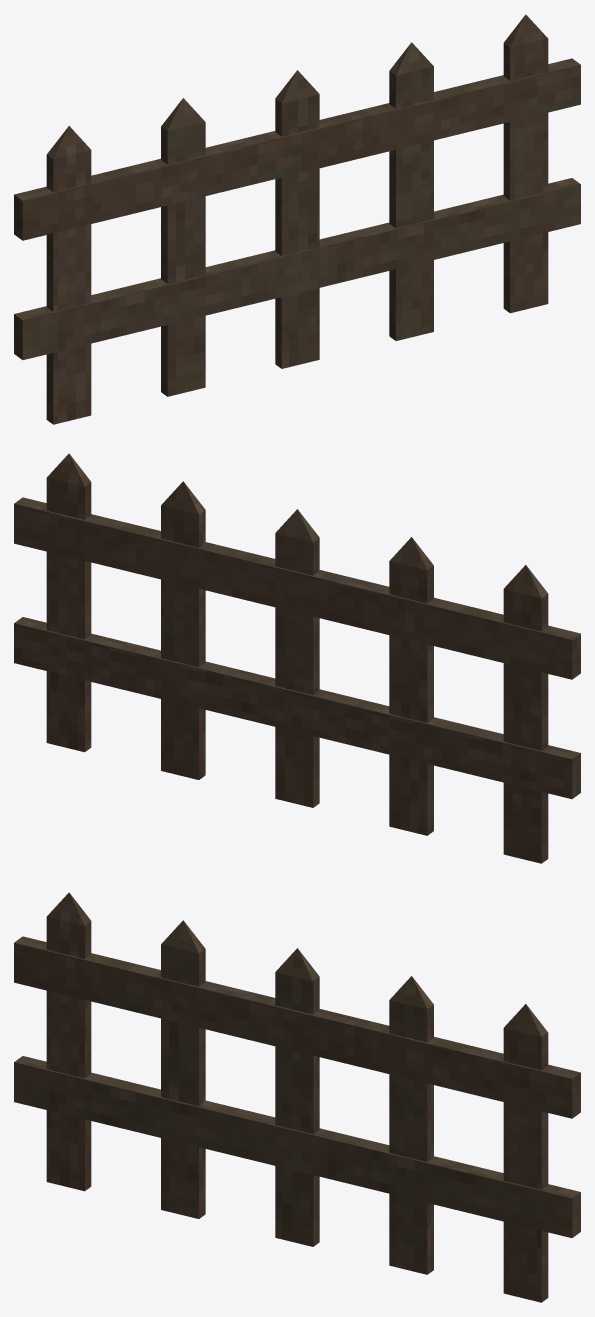
File: Fence.glb
3 views of the same model, one above another, from view 1: azimuth 30°, elevation 25°; view 2: azimuth 150°, elevation 25°; view 3: azimuth 330°, elevation 25° (orthographic).
Visible parts, largest first — view 1: Fence; view 2: Fence; view 3: Fence.
Boxes of the visible parts, x1,y1,x2,y2 form: Fence: [14, 14, 580, 424]; Fence: [14, 453, 580, 863]; Fence: [14, 892, 580, 1302].
Bounding box in the file's own units: 4.4 × 2.2 × 0.12.
Materials: 1 (1 with a texture image).
